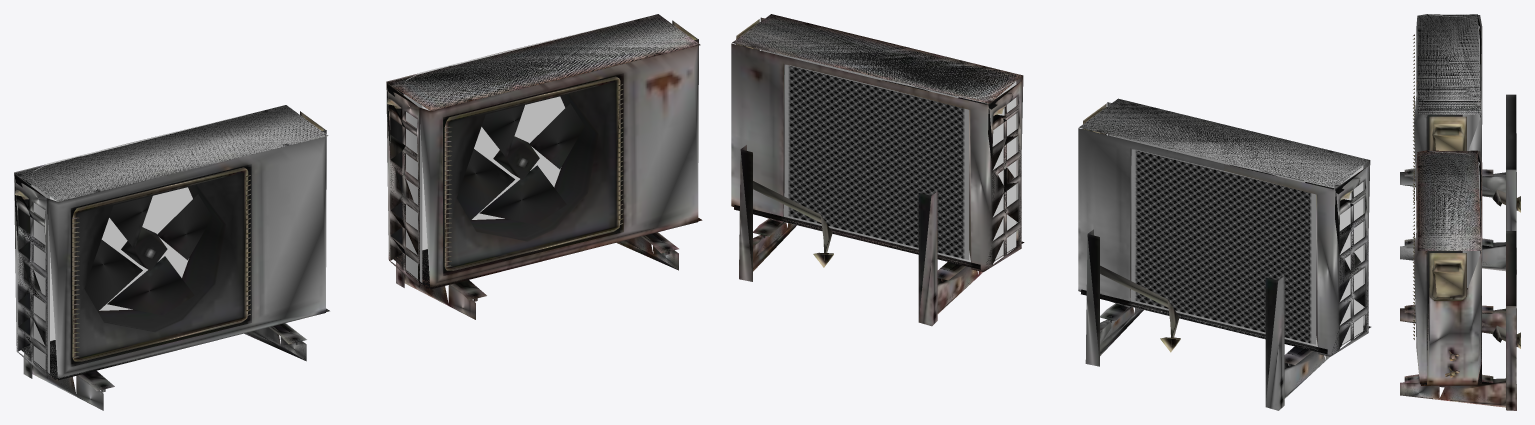
File: aircon_lo.glb
3 renders of one model, left to right at view 1: azimuth 30°, elevation 25°; view 2: azimuth 150°, elevation 25°; view 3: azimuth 270°, elevation 25°, orthographic. The views are drawn at different scales.
Parts seen in each view (by area): view 1: exterior_aircon_unit, exterior_aircon_unit_rusted; view 2: exterior_aircon_unit_rusted, exterior_aircon_unit; view 3: exterior_aircon_unit_rusted, exterior_aircon_unit.
Boxes of the visible parts, x1,y1,x2,y2 form: exterior_aircon_unit: (14,105,329,410); exterior_aircon_unit_rusted: (386,14,702,319); exterior_aircon_unit_rusted: (731,14,1024,326); exterior_aircon_unit: (1078,98,1370,410); exterior_aircon_unit_rusted: (1400,150,1520,410); exterior_aircon_unit: (1400,14,1520,274).
Bounding box in the file's own units: 1.8 × 0.5877 × 0.3742.
4 materials, 4 textured.
